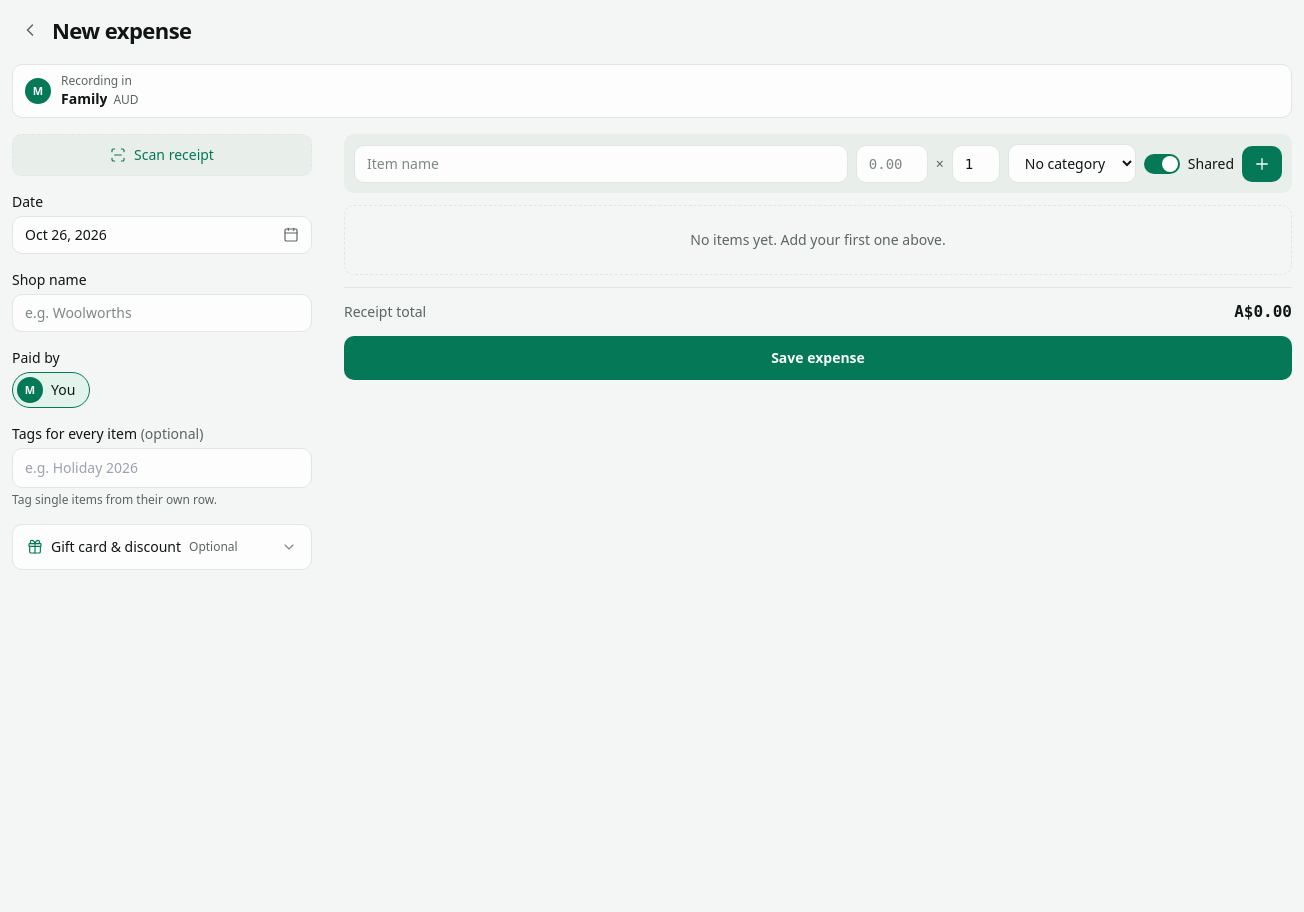
Test: ExpenseEditor (hybrid) › shows the computed discount amount and net total in the footer
Type "Cherry" into the dropdown with placeholder "Item name".
click(601, 164); type("Cherry")  # box x1=354 y1=144 x2=848 y2=182
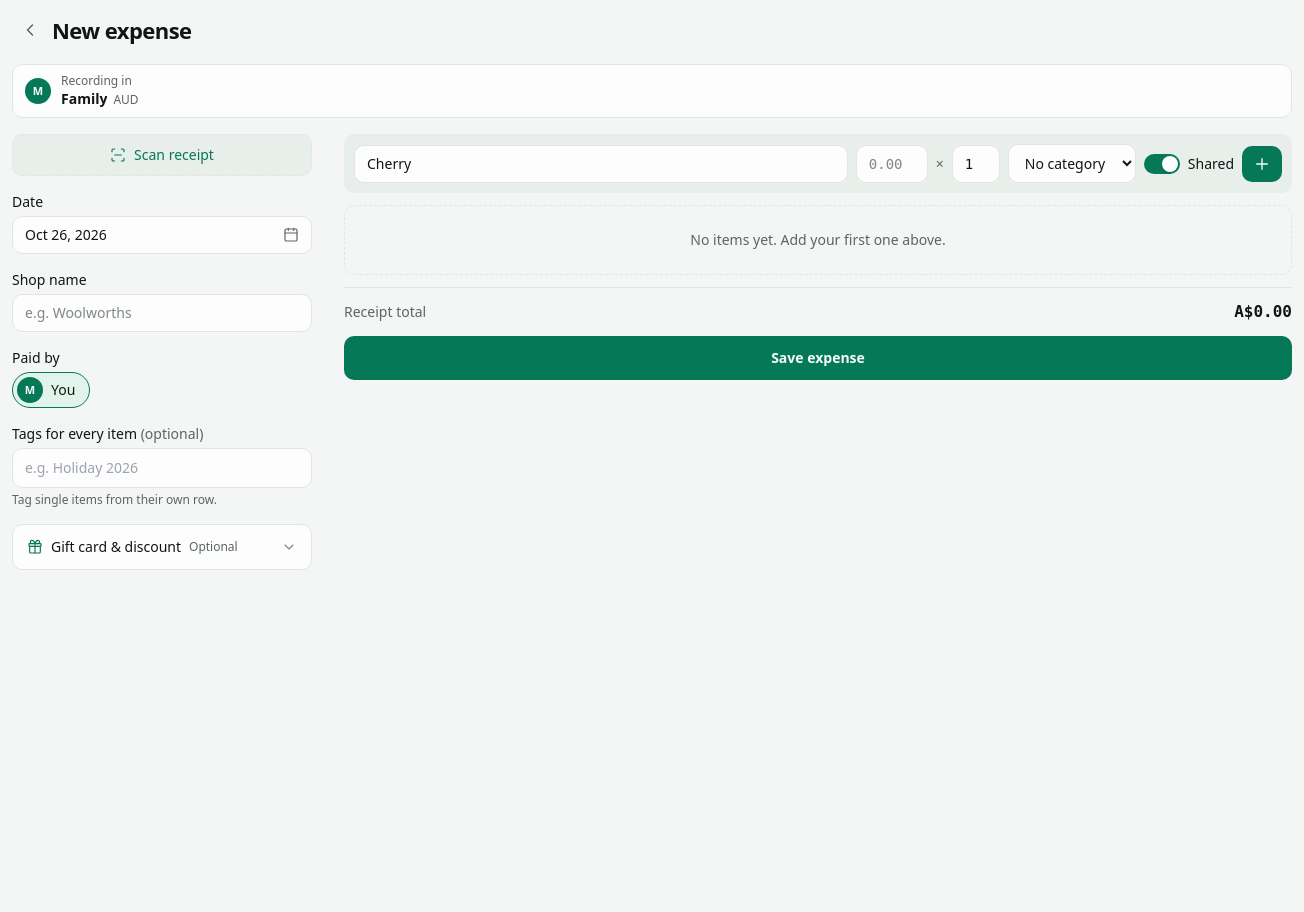
Type "100.00" into the field named "unit price".
click(892, 164); type("100.00")  # box x1=856 y1=144 x2=928 y2=182
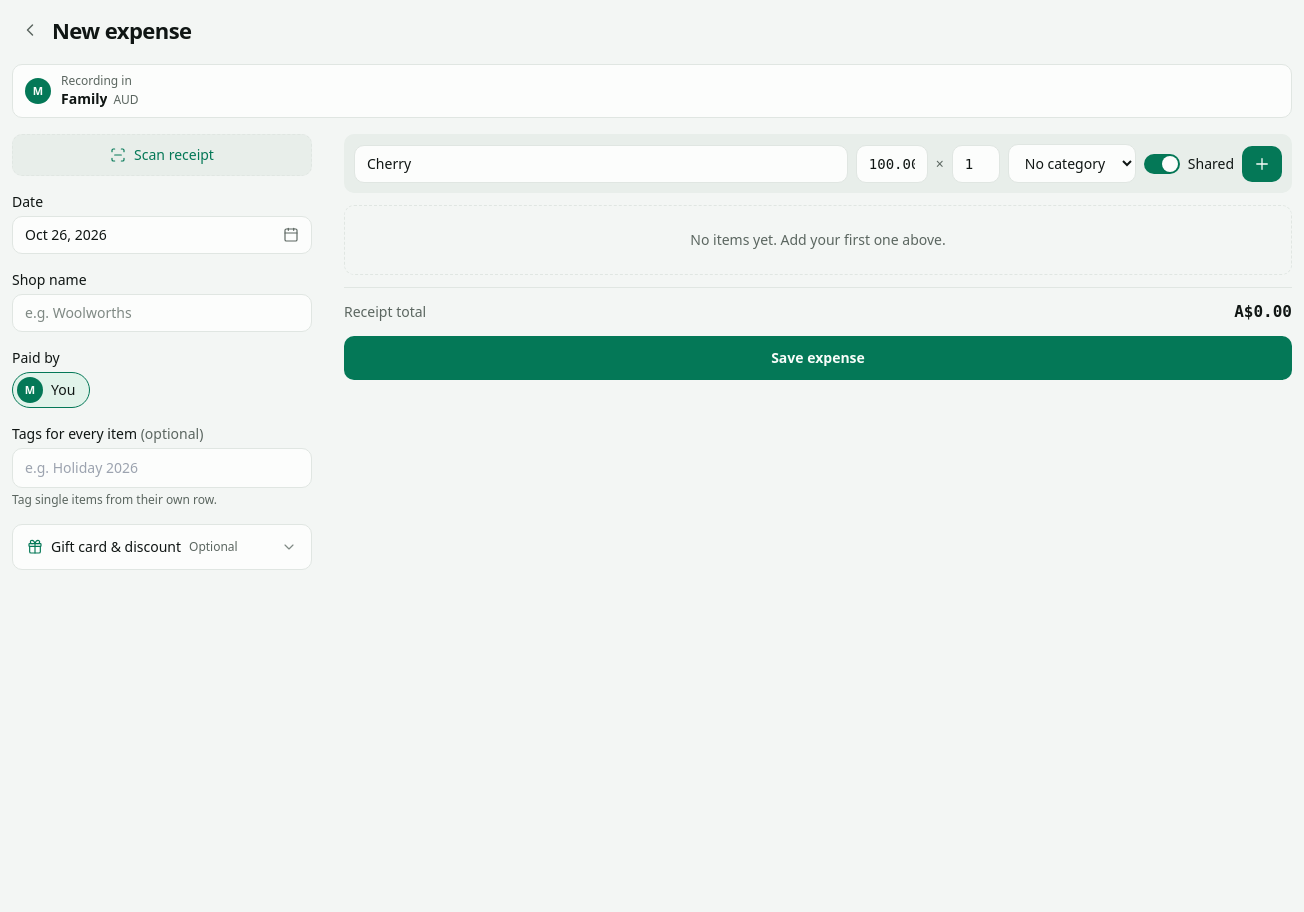
Click the button named "add item".
click(1262, 164)  # box x1=1242 y1=146 x2=1282 y2=182
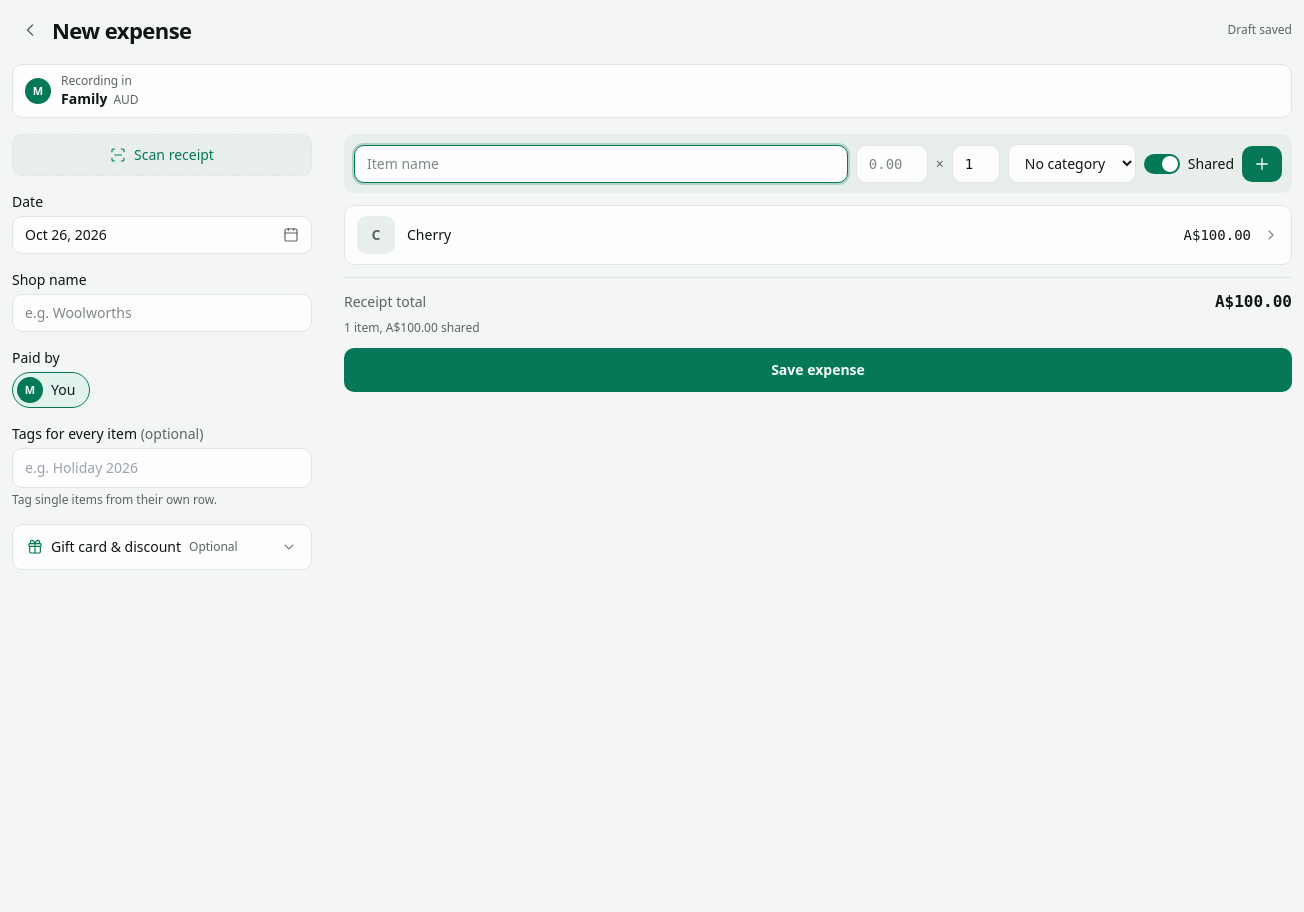
Click the button "Gift card & discount Optional".
click(162, 547)  # box x1=13 y1=525 x2=311 y2=569
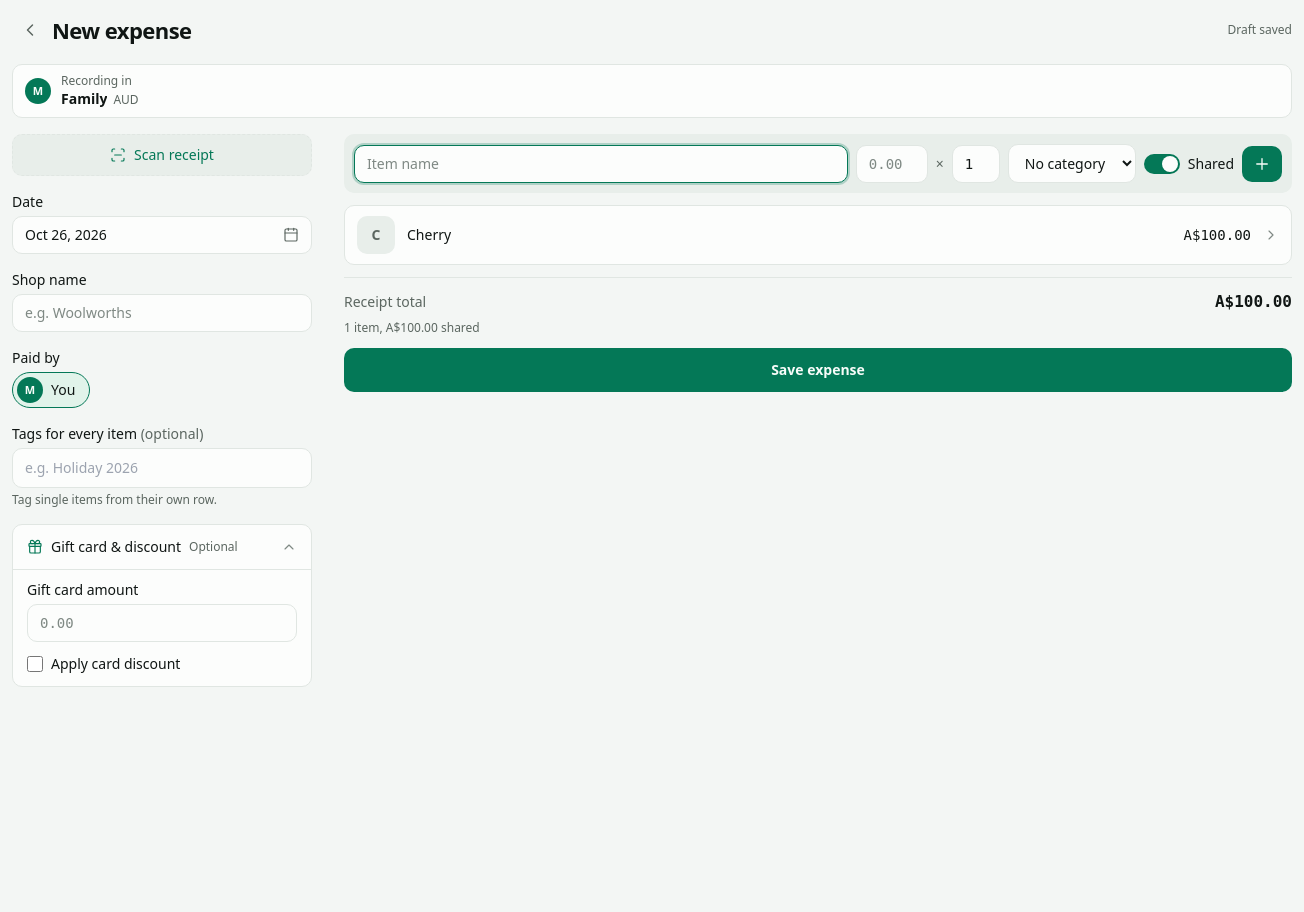
Click the checkbox labelled "Apply card discount".
click(35, 664)  # box x1=27 y1=656 x2=43 y2=672
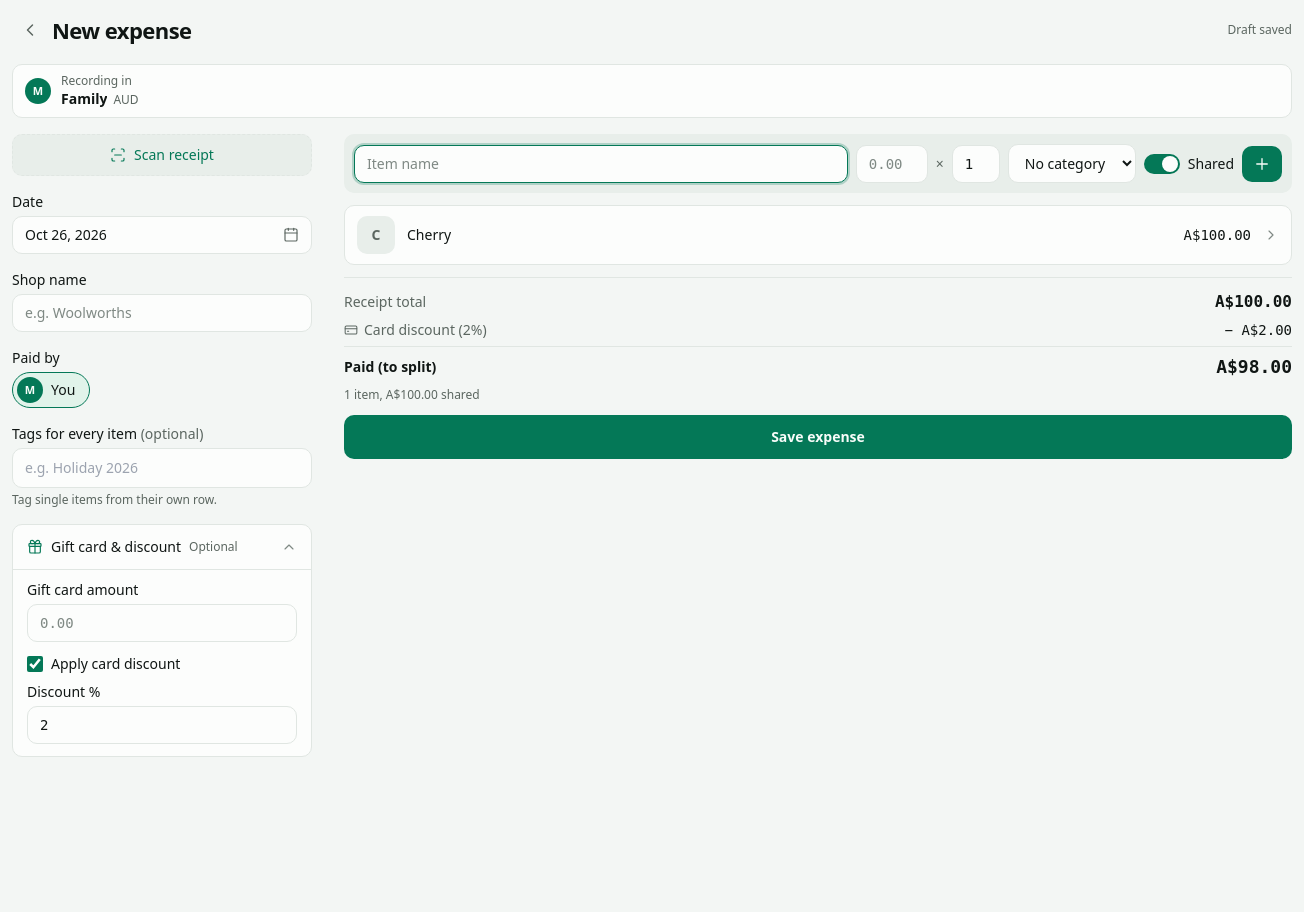
Expected: the text "Card discount (2%)" is shown, x1=344 y1=320 x2=487 y2=340
